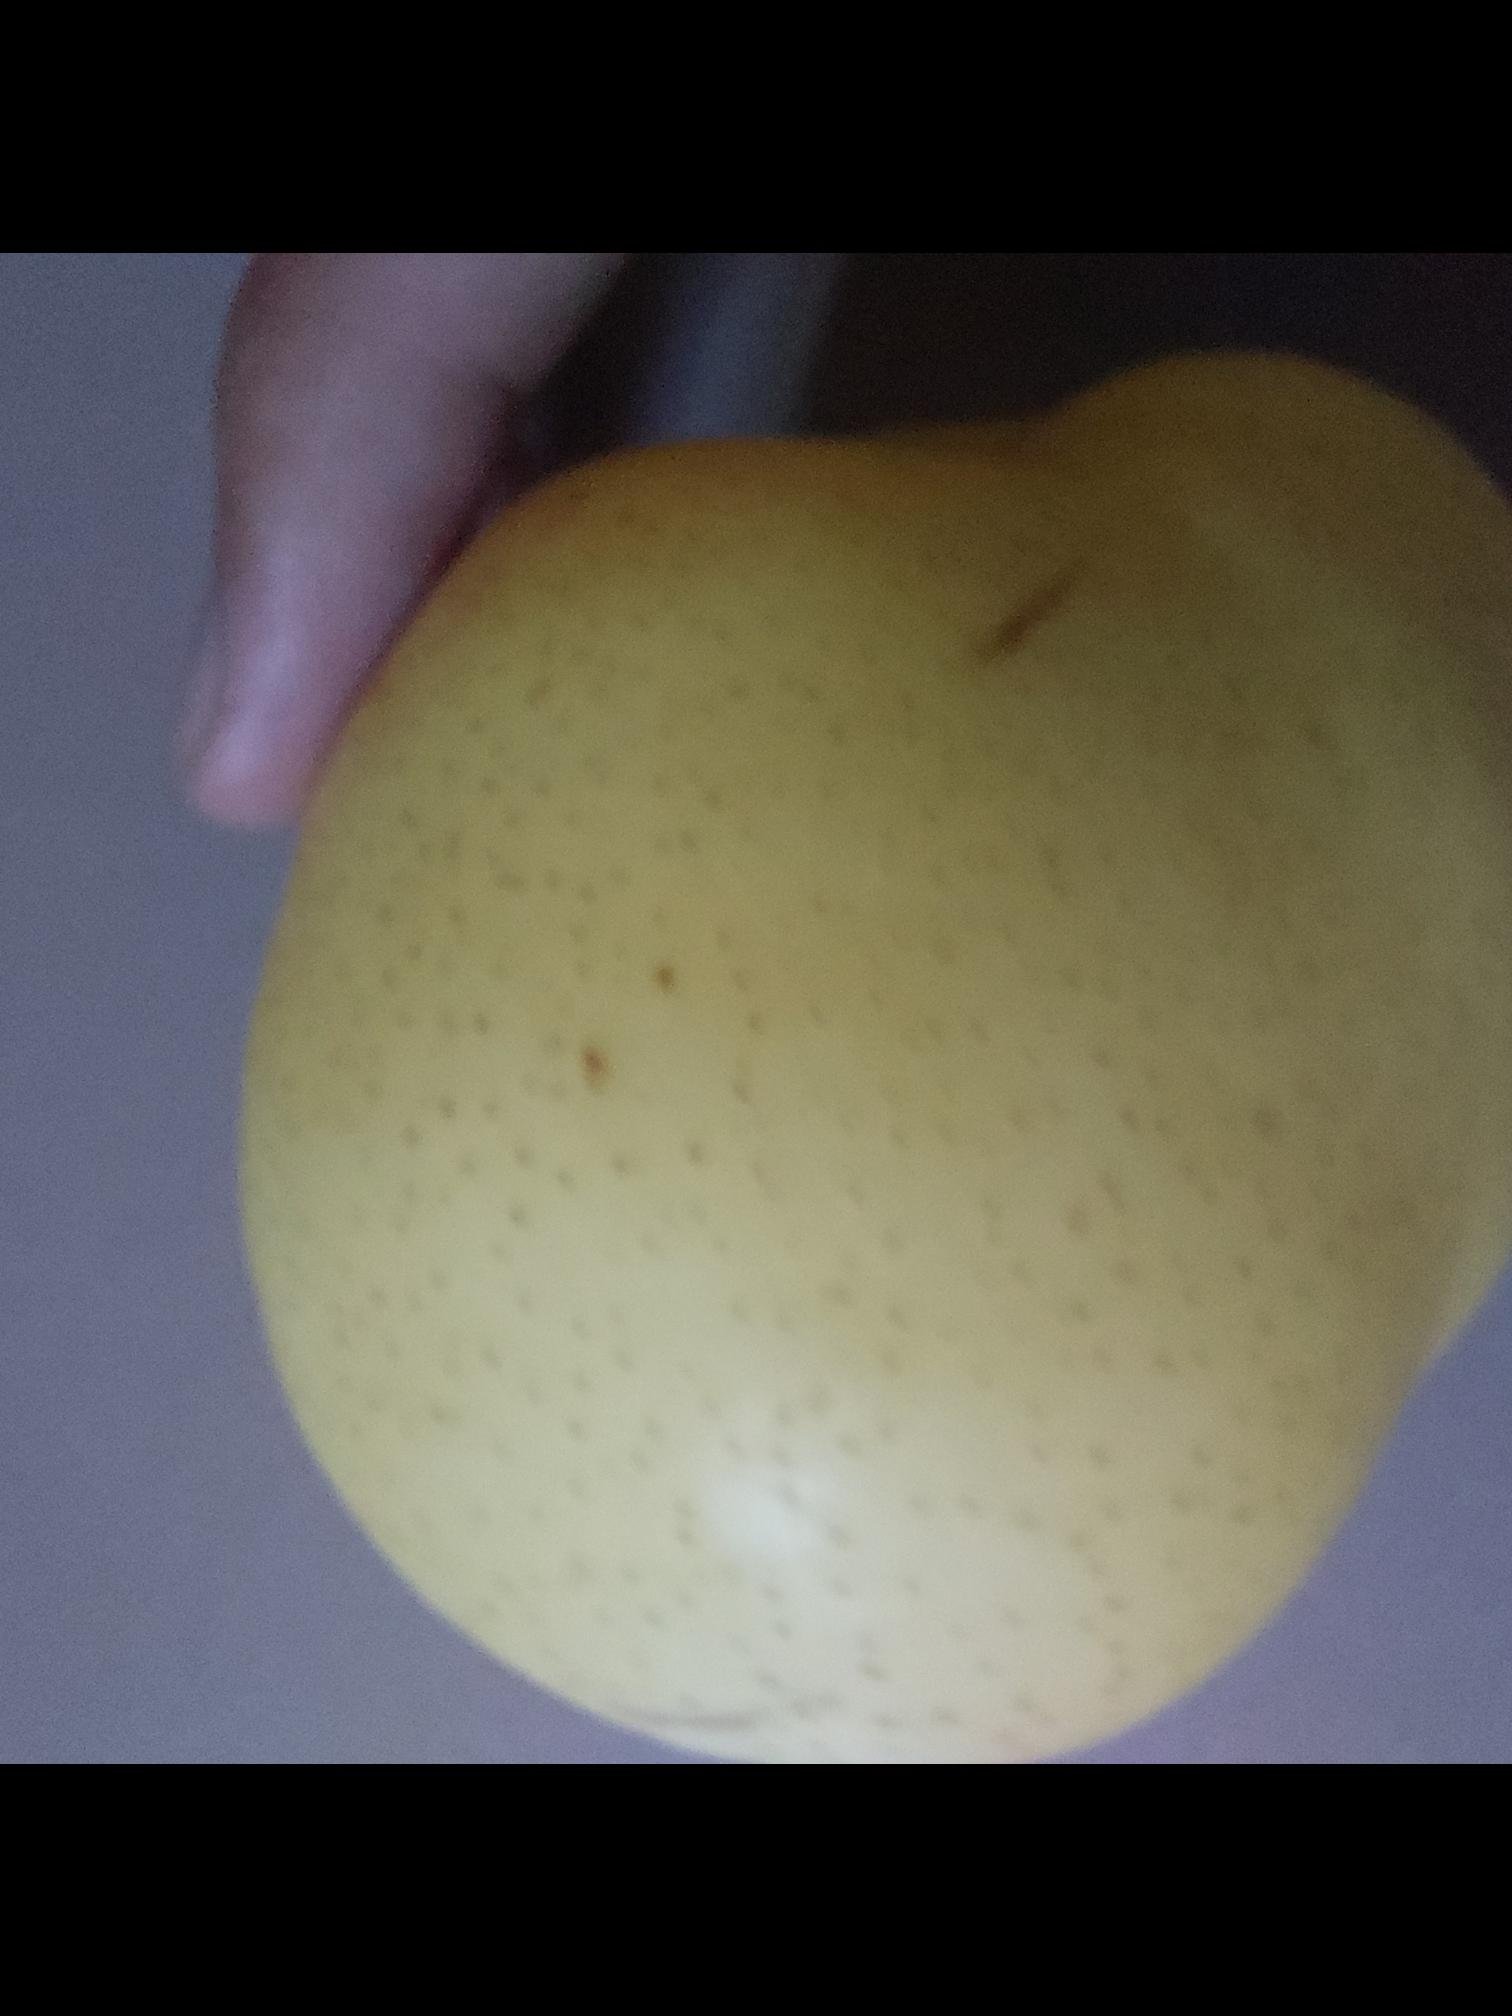Good Pear: (231, 342, 1512, 1764)
